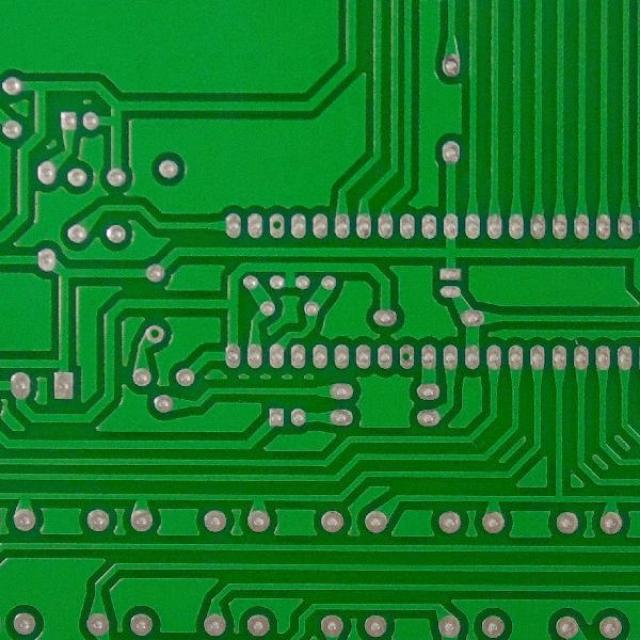Missing_Hole: (267, 212, 286, 238), (144, 323, 165, 345), (399, 344, 416, 369)
